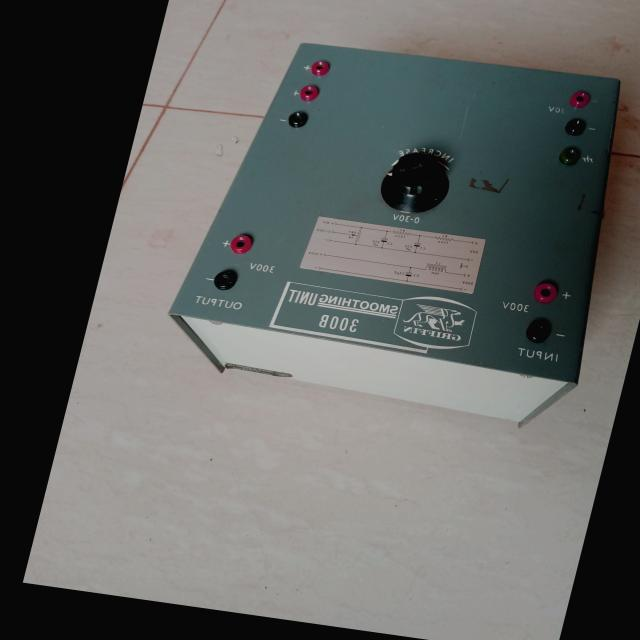Smoothing Unit: (152, 12, 640, 436)
